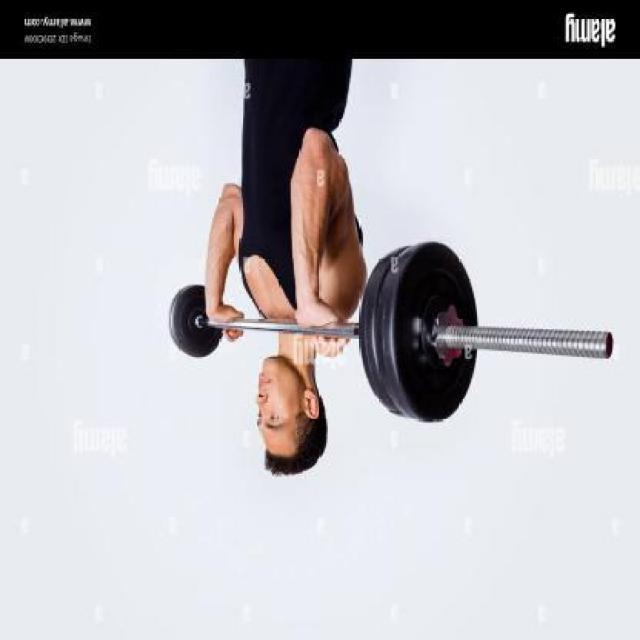Barbell: (597, 324, 620, 370)
